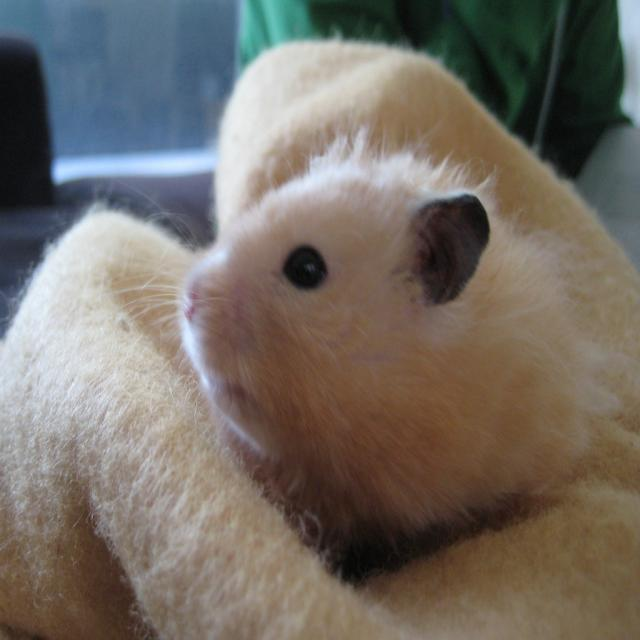rat: (174, 146, 623, 530)
